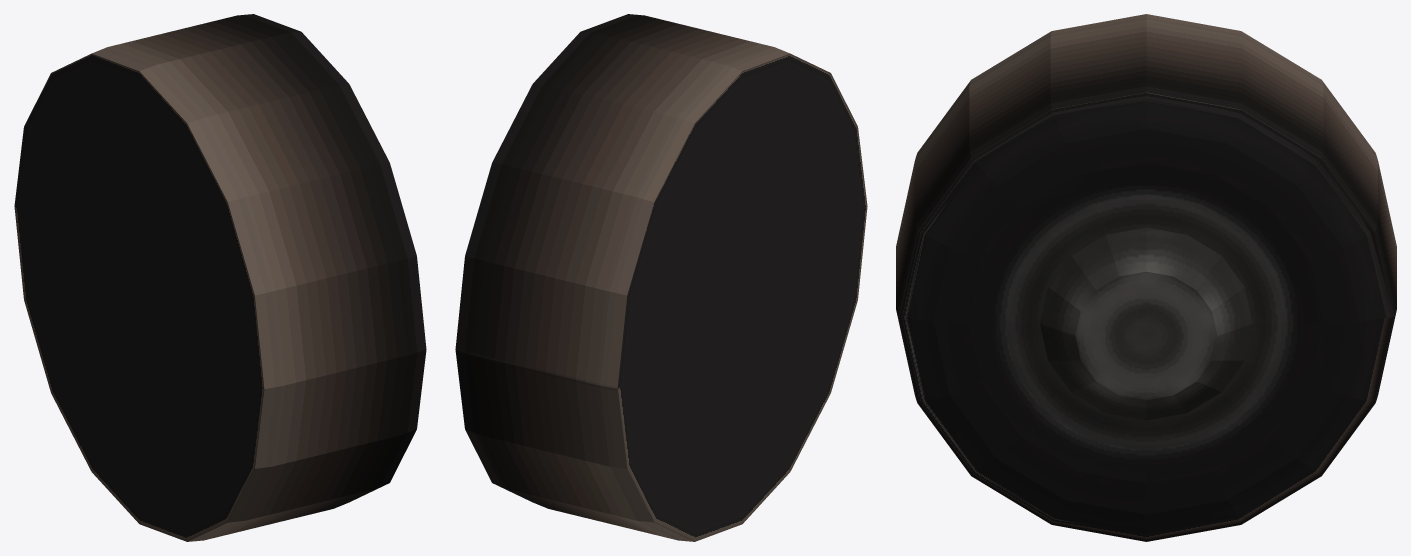
Rendered from wheel.glb.
3 renders of one model, left to right at view 1: azimuth 30°, elevation 25°; view 2: azimuth 150°, elevation 25°; view 3: azimuth 270°, elevation 25°, orthographic.
Parts seen in each view (by area): view 1: wheel; view 2: wheel; view 3: wheel.
Part boxes in pixels (left/top/right/bottom): wheel: left=14, top=14, right=426, bottom=541; wheel: left=455, top=14, right=867, bottom=541; wheel: left=896, top=14, right=1396, bottom=541.
Size of the model in its own units: 0.3332 by 0.7225 by 0.7225.
1 material, 1 textured.
